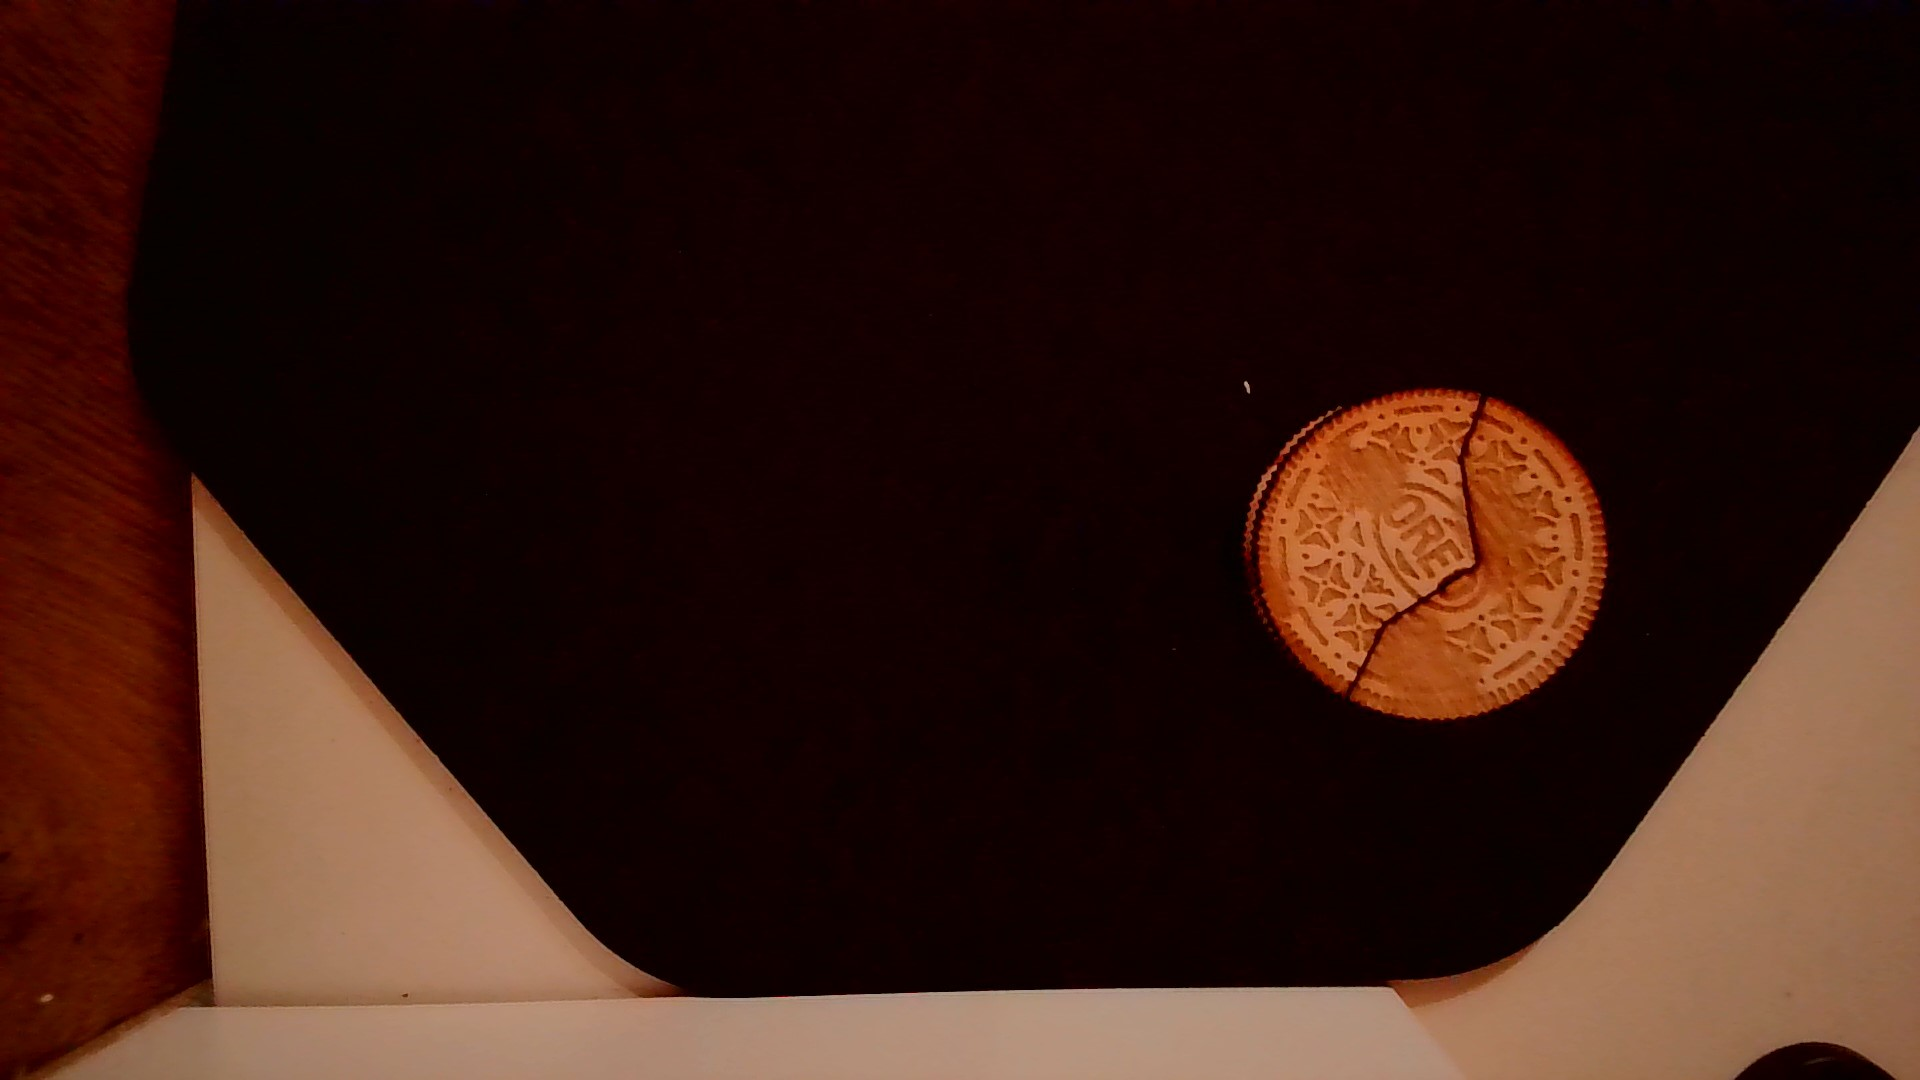Effacé: (1398, 632, 1495, 712), (1313, 438, 1406, 512), (1478, 454, 1528, 579)
Fissure: (1333, 386, 1505, 694)
Oréo: (1238, 386, 1613, 724)
